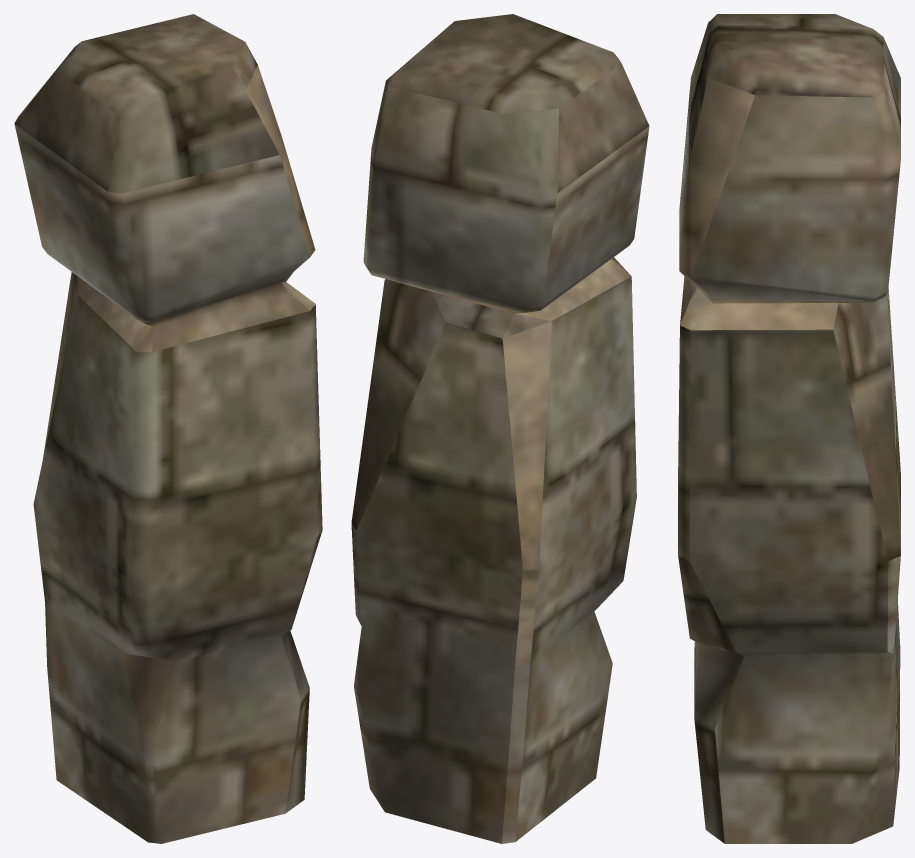
File: environment_common_shamofeixu_001_b.FBX
3 renders of one model, left to right at view 1: azimuth 30°, elevation 25°; view 2: azimuth 150°, elevation 25°; view 3: azimuth 270°, elevation 25°, orthographic.
Parts seen in each view (by area): view 1: environment_common_shamofeixu_001_b; view 2: environment_common_shamofeixu_001_b; view 3: environment_common_shamofeixu_001_b.
Part boxes in pixels (x1,y1,x2,y2): environment_common_shamofeixu_001_b: (14, 14, 322, 843); environment_common_shamofeixu_001_b: (351, 14, 649, 843); environment_common_shamofeixu_001_b: (678, 14, 900, 843).
Size of the model in its own units: 131 by 452 by 121.
